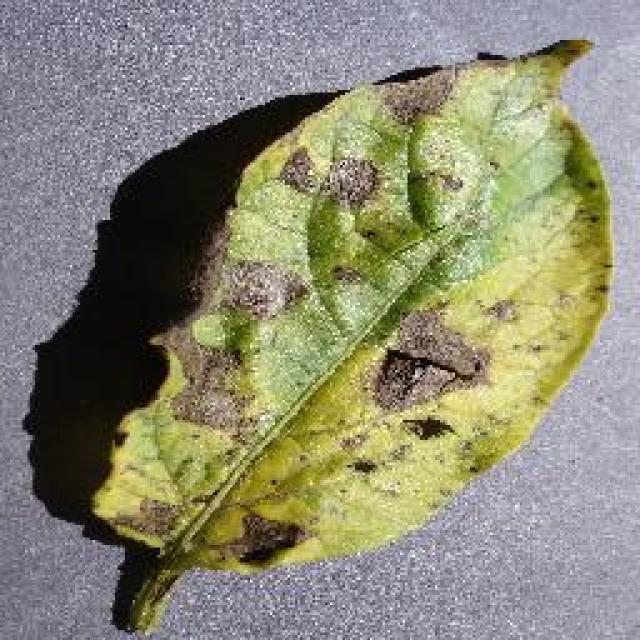Potato: (85, 35, 615, 635)
